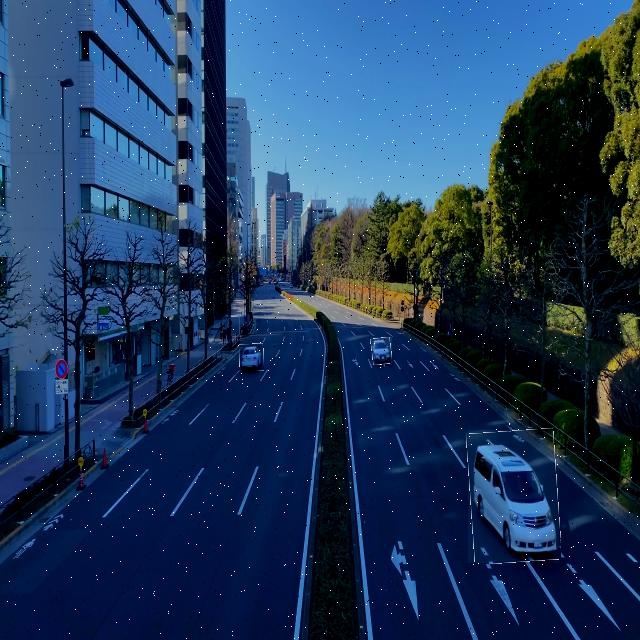Car: (468, 430, 559, 563), (240, 344, 264, 371), (371, 337, 392, 365)
